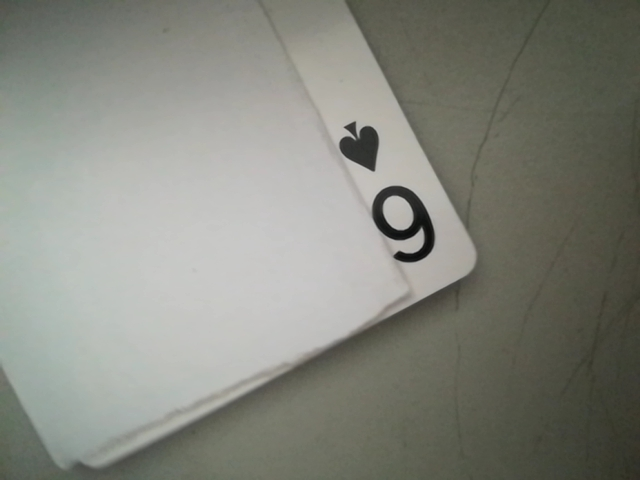ht 6: (331, 110, 462, 282)
